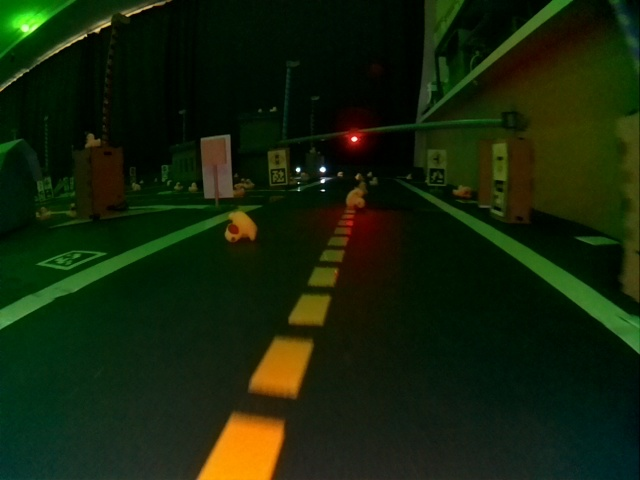Duckie: (224, 211, 257, 243), (346, 188, 364, 208), (85, 133, 101, 146), (453, 185, 469, 198), (66, 203, 76, 216), (244, 179, 253, 189), (189, 183, 197, 192), (175, 182, 183, 191), (355, 175, 364, 183), (337, 172, 346, 180), (370, 179, 377, 186)
Intersection sign: (492, 145, 505, 179), (428, 150, 446, 167)
QR code: (38, 250, 106, 267), (491, 182, 505, 214), (269, 168, 286, 185), (428, 169, 446, 185)
Signal sign: (269, 150, 282, 166)
Traffic light: (347, 129, 361, 147)
